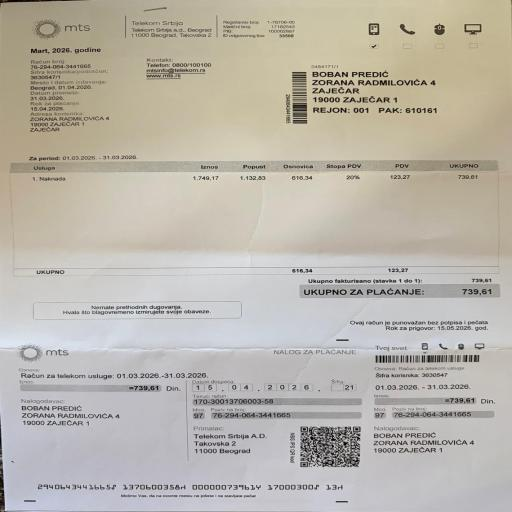mts: (22, 162, 500, 184)
mts_iznos: (301, 284, 498, 298)
mts_uplatnica: (374, 384, 502, 424)
